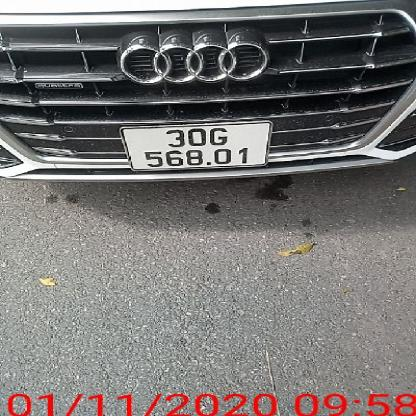biensoxe: (114, 119, 283, 172)
